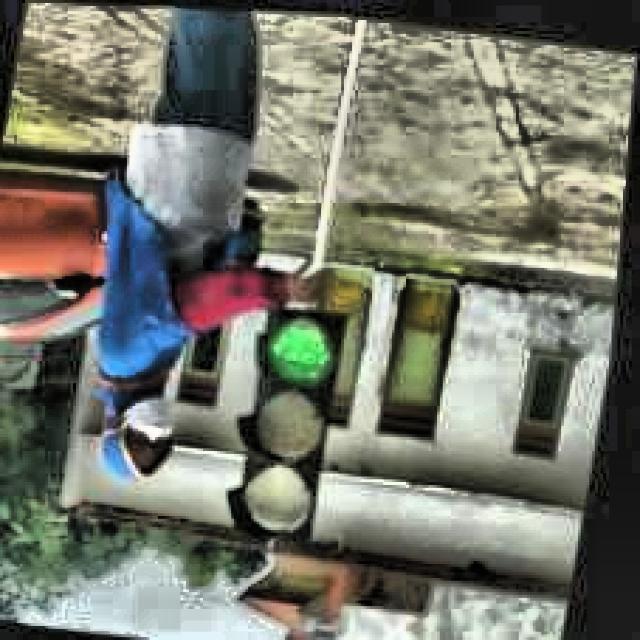green: (230, 304, 356, 542)
